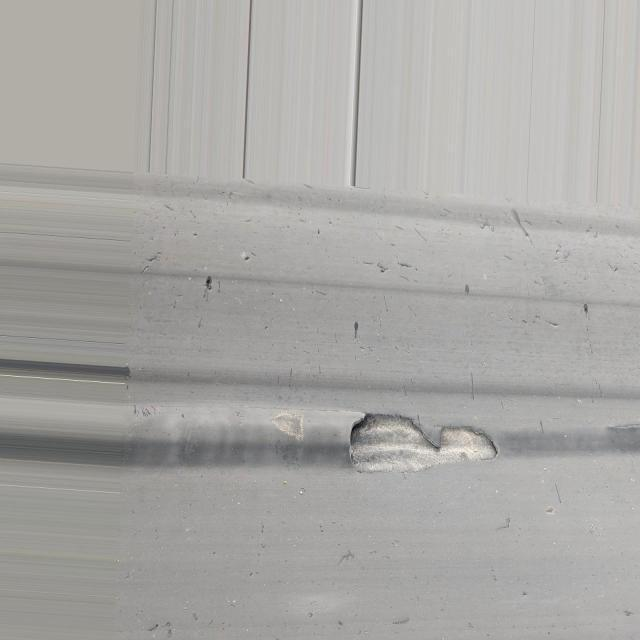Impact Damage: (344, 406, 511, 473)
Puncture: (199, 272, 219, 293), (582, 299, 596, 319)
